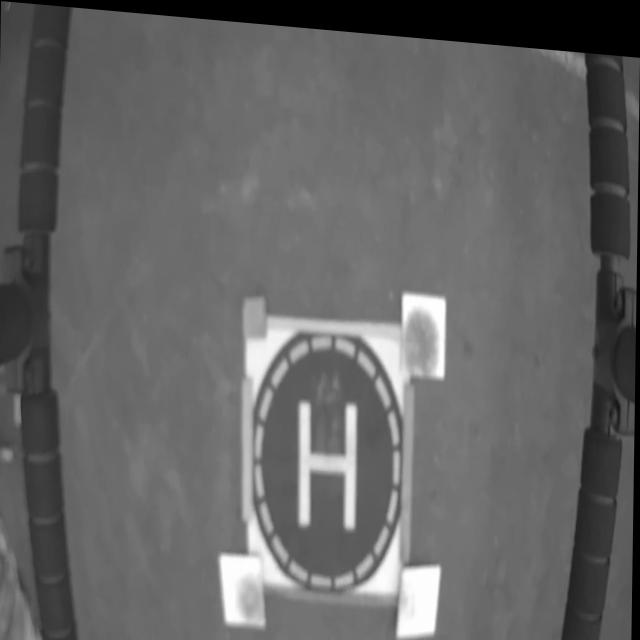Helipad: (296, 395, 360, 524)
